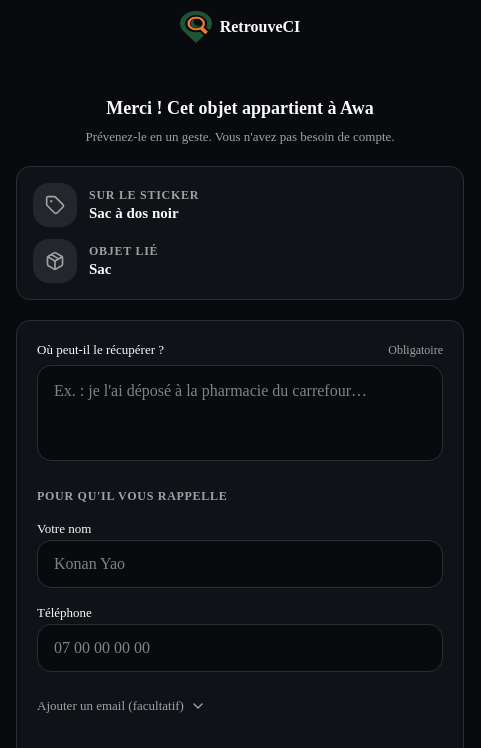
Scenario: QrContactPage › keeps the email out of the way until it is asked for
The width and height of the screenshot is (481, 748).
Click the button "Ajouter un email (facultatif)" at (121, 706), box [37,684,206,728]
(page scrolled)
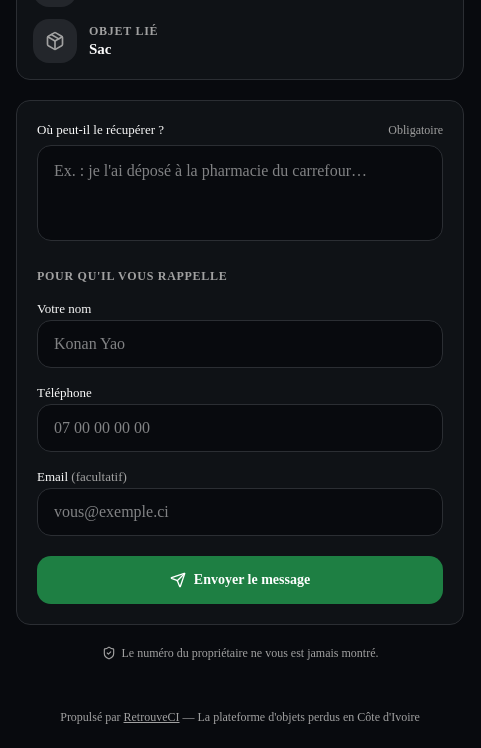
expect the field labelled "Email (facultatif)" is shown: met, box [37,488,443,536]
